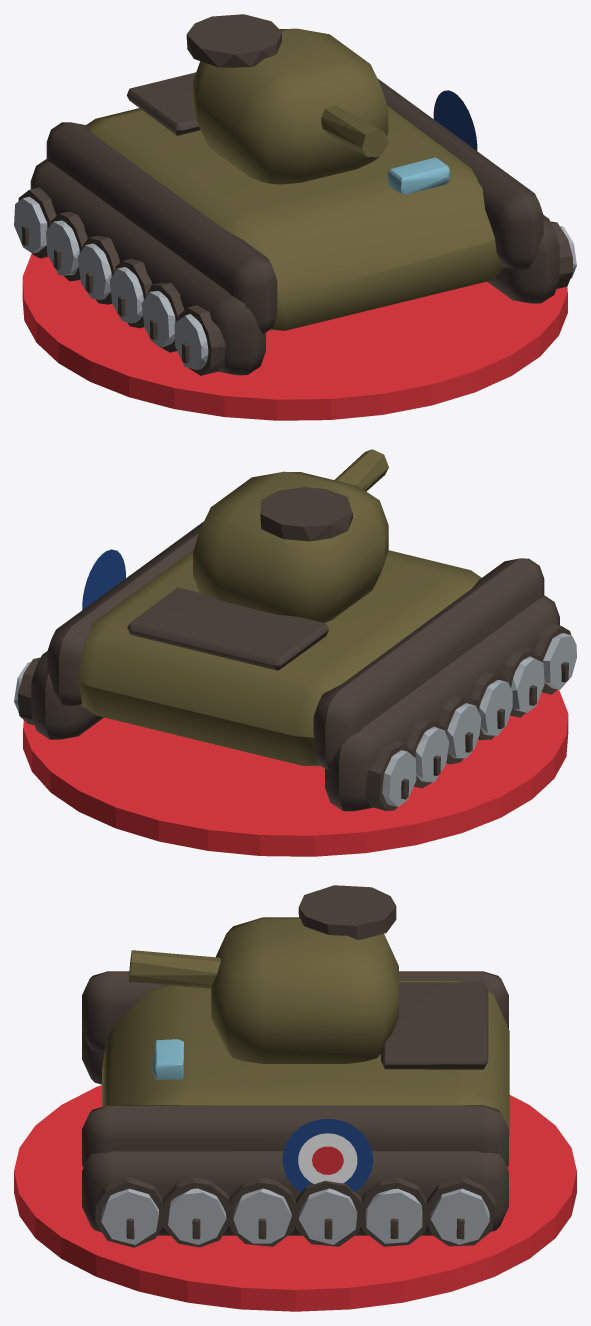
The model's file is united_kingdom_infantry_lod0.glb.
The picture shows the model from 3 angles, top to bottom: view 1: azimuth 30°, elevation 25°; view 2: azimuth 150°, elevation 25°; view 3: azimuth 270°, elevation 25°; orthographic projection. The views are drawn at different scales.
Parts seen in each view (by area): view 1: body_hull, base_pedestal; view 2: body_hull, base_pedestal; view 3: body_hull, base_pedestal.
Boxes of the visible parts, bbox=[...] form: body_hull: bbox=[14, 14, 576, 375]; base_pedestal: bbox=[22, 254, 567, 420]; body_hull: bbox=[14, 449, 576, 811]; base_pedestal: bbox=[23, 690, 568, 856]; body_hull: bbox=[82, 885, 509, 1247]; base_pedestal: bbox=[14, 1085, 576, 1311].
Size of the model in its own units: 0.78 by 0.412 by 0.78.
